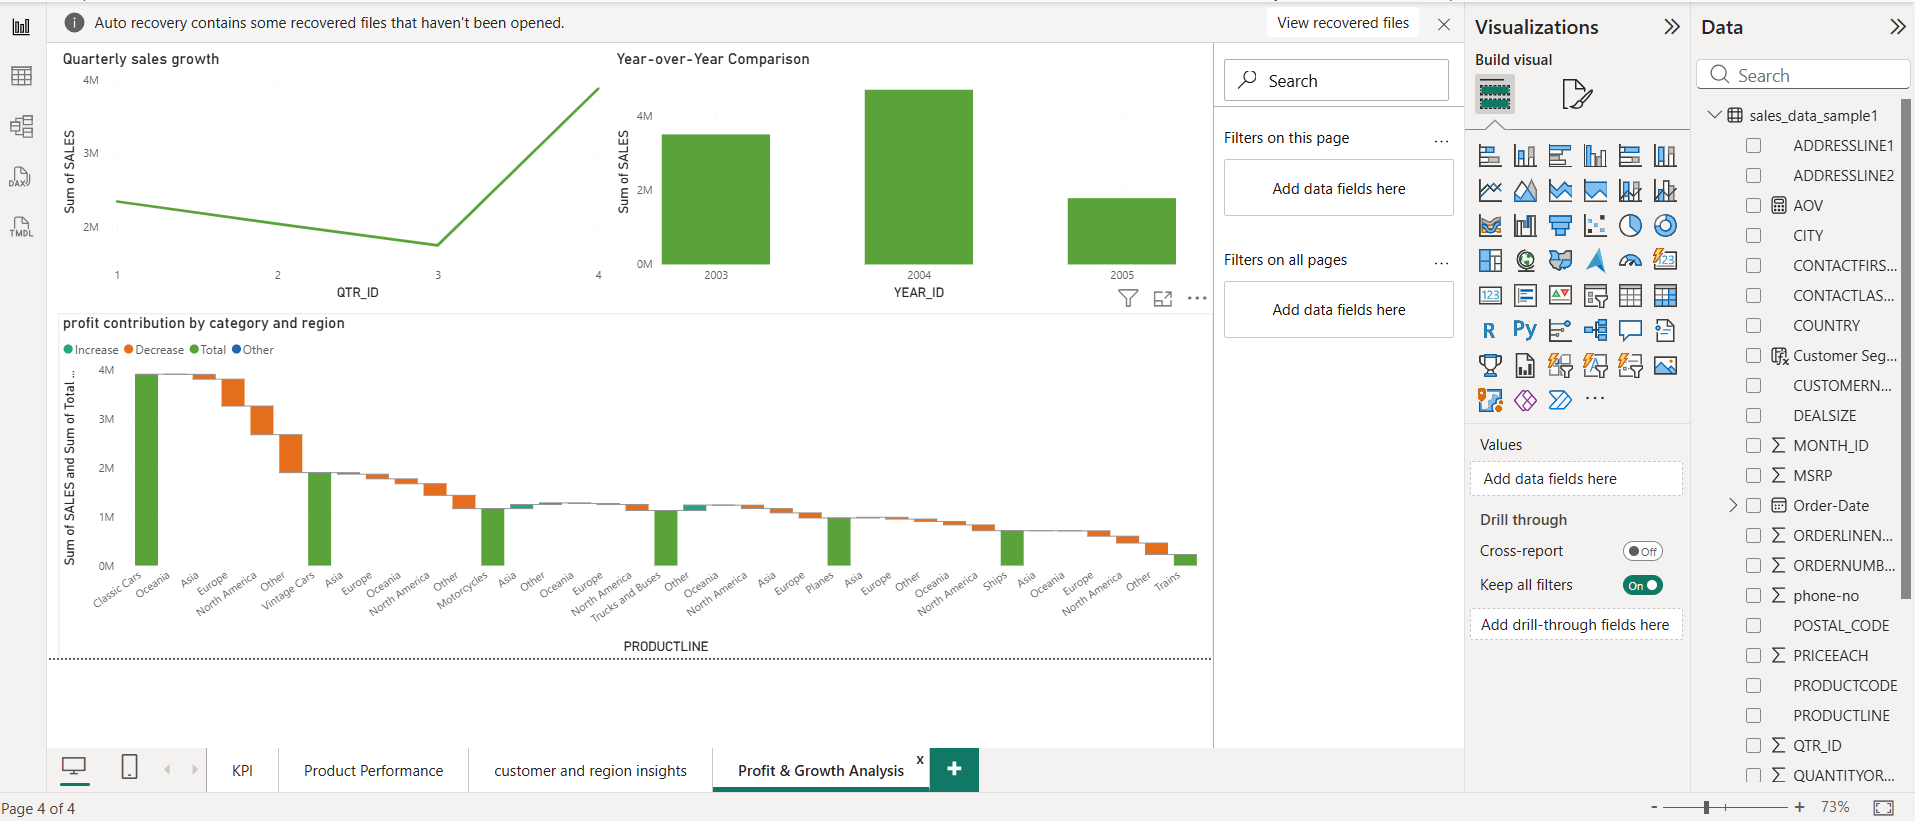

This screenshot's page, from the dashboard's own definition file:
{"tool":"powerbi","page":{"name":" Profit & Growth Analysis","canvas":[1280,720],"ordinal":3},"visuals":[{"type":"lineChart","title":"Quarterly sales growth","fields":{"Category":["sales_data_sample1.QTR_ID"],"Y":["Sum(sales_data_sample1.SALES)"]},"box":[12.3,52.1,607.9,279.9],"z":0},{"type":"columnChart","title":"Year-over-Year Comparison","fields":{"Y":["Sum(sales_data_sample1.SALES)"],"Category":["sales_data_sample1.YEAR_ID"]},"box":[620.2,52.1,624.4,279.9],"z":1000},{"type":"waterfallChart","title":"profit contribution by category and region","fields":{"Category":["sales_data_sample1.PRODUCTLINE"],"Y":["Sum(sales_data_sample1.SALES)"],"Breakdown":["sales_data_sample1.region"]},"box":[12.3,341.7,1267.9,378.7],"z":2000}]}

Visuals, with their boxes on the page's 1280x720 design canvas (x1, y1, x2, y2). These are canvas units, not pixel positions in the 1915x821 screenshot, which may show the page scaled, cropped or inside an application window:
"Quarterly sales growth" lineChart: (left=12, top=52, right=620, bottom=332)
"Year-over-Year Comparison" columnChart: (left=620, top=52, right=1245, bottom=332)
"profit contribution by category and region" waterfallChart: (left=12, top=342, right=1280, bottom=720)
